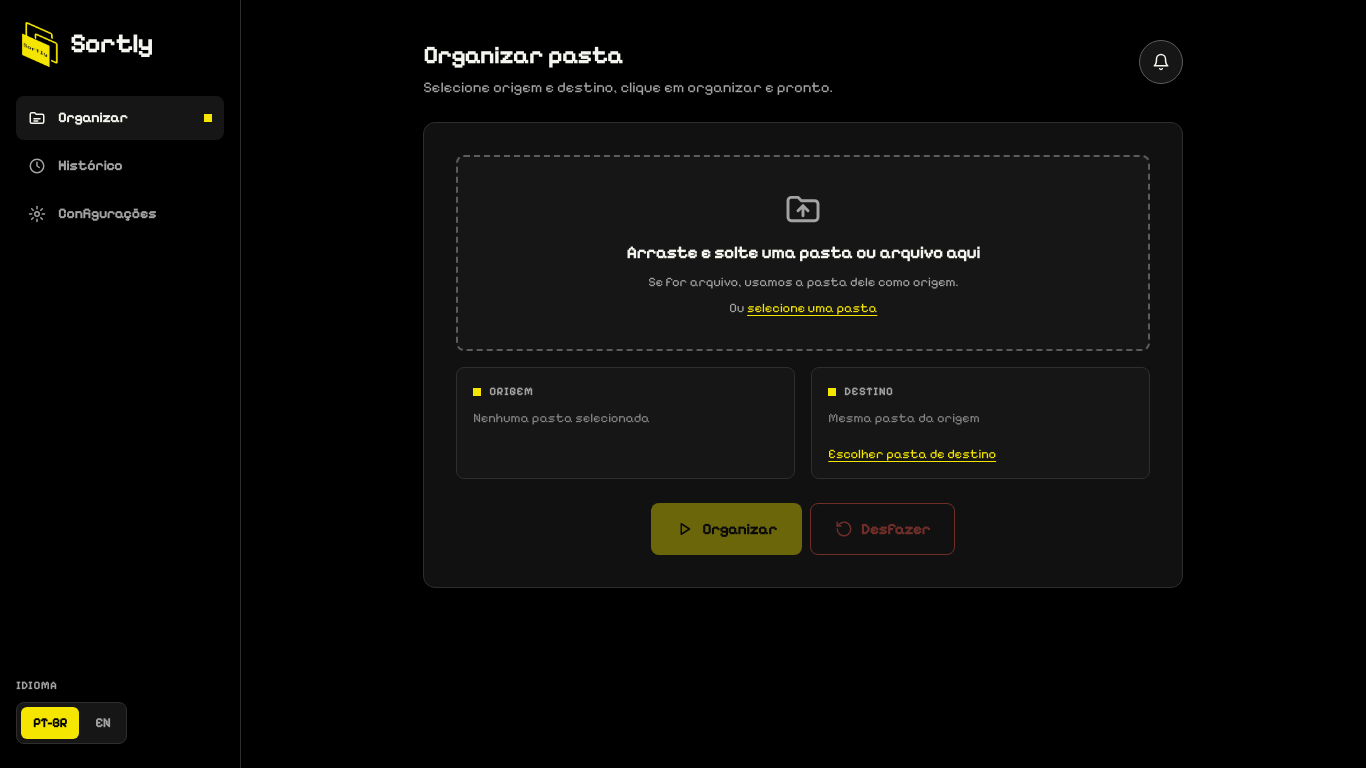
it: OrganizerView › "Marcar como lidas" marca e fecha o painel; Esc só fecha
Click the button named "Notificações".
click(1161, 62)  # box [1139,40,1183,84]
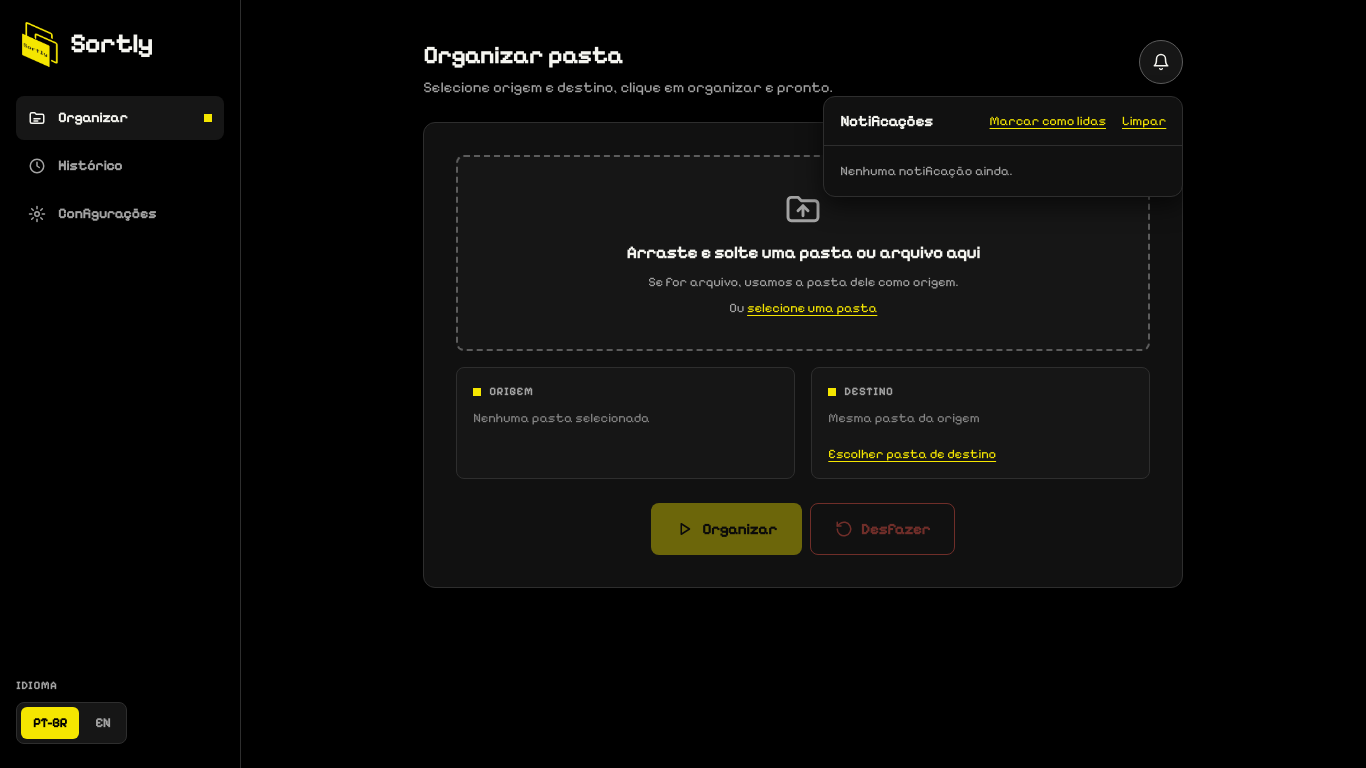
Click the button "Marcar como lidas".
click(1048, 121)  # box [990,113,1106,129]
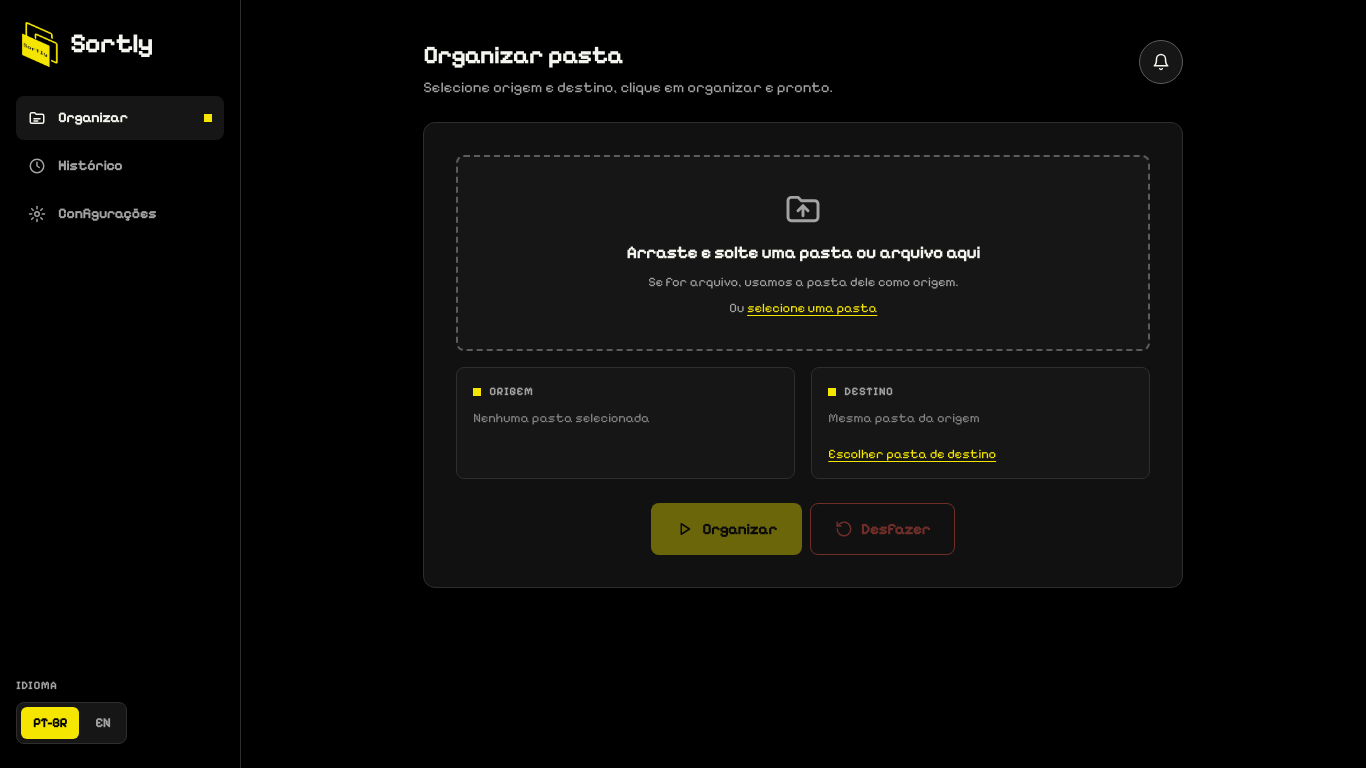
Check: the dialog is gone
Click the button named "Notificações".
click(1161, 62)  # box [1139,40,1183,84]
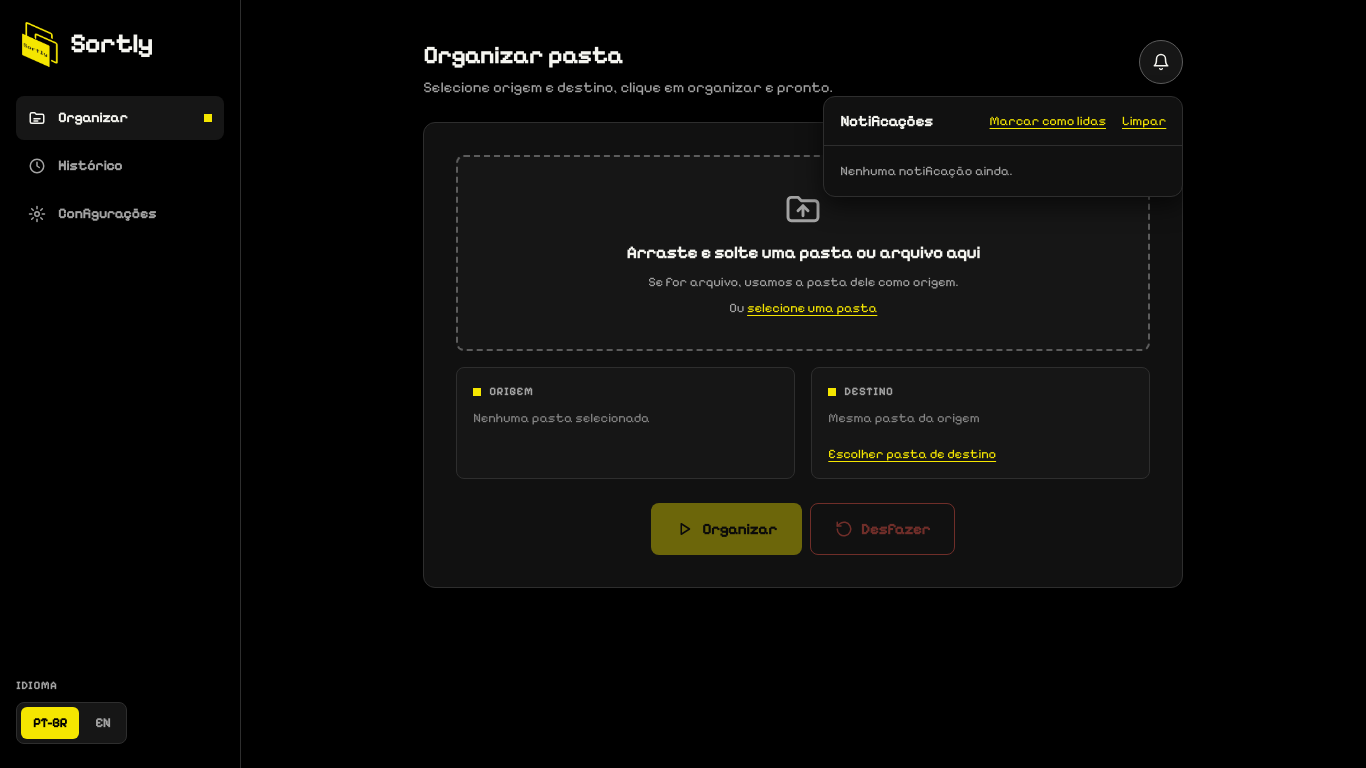
Press Escape in the dialog, box [823,96,1183,197]
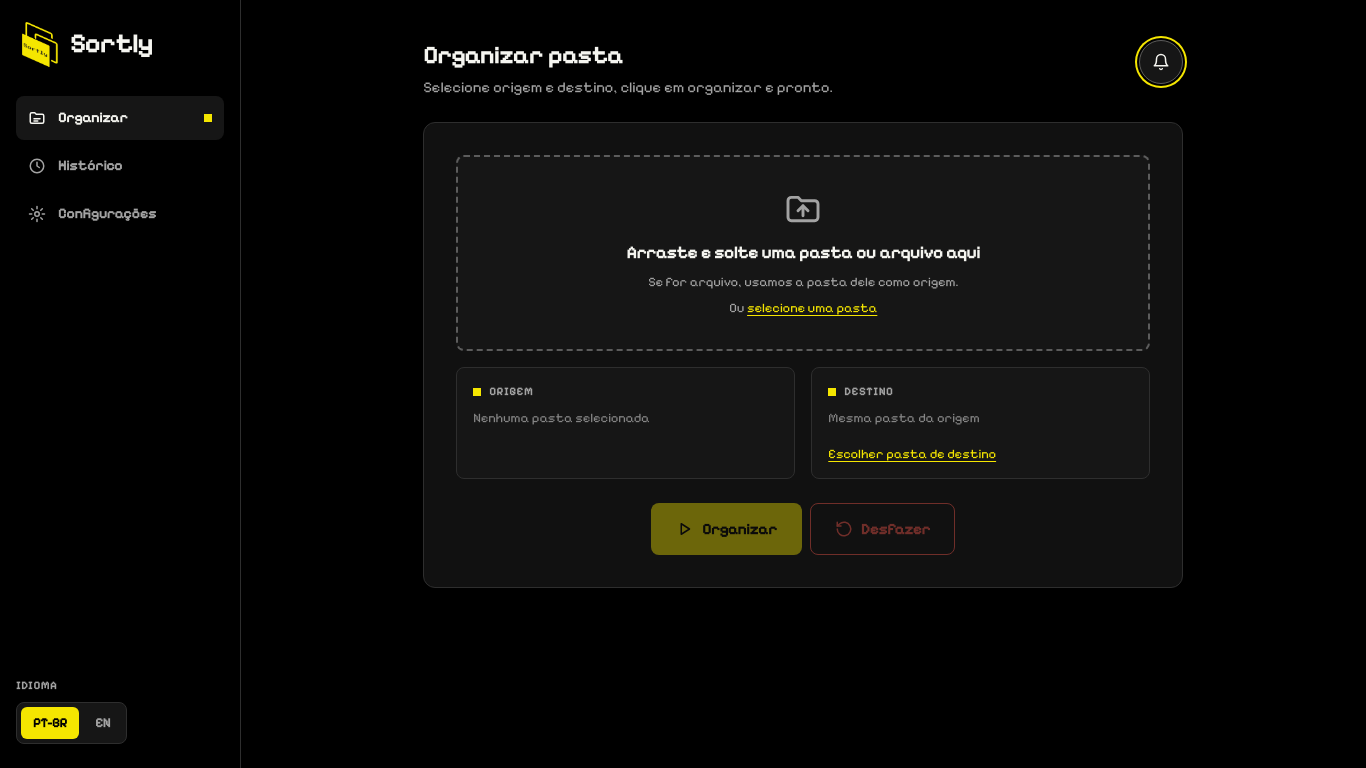
Check: the dialog is gone
